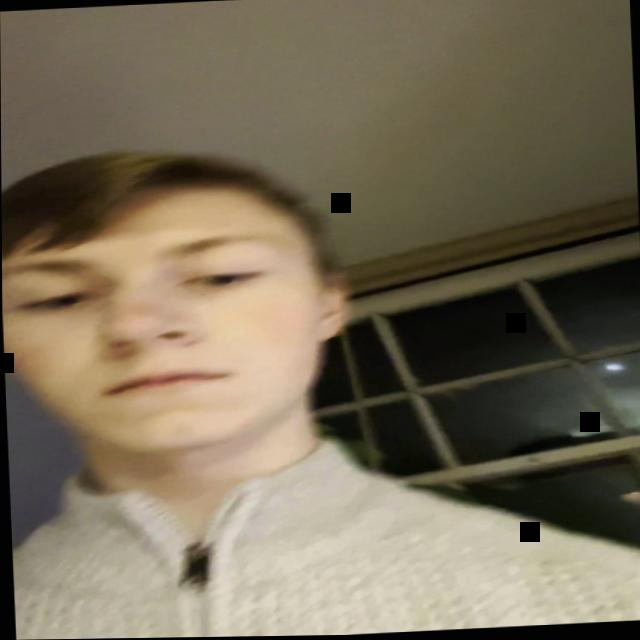NO-Mask: (1, 174, 336, 461)
